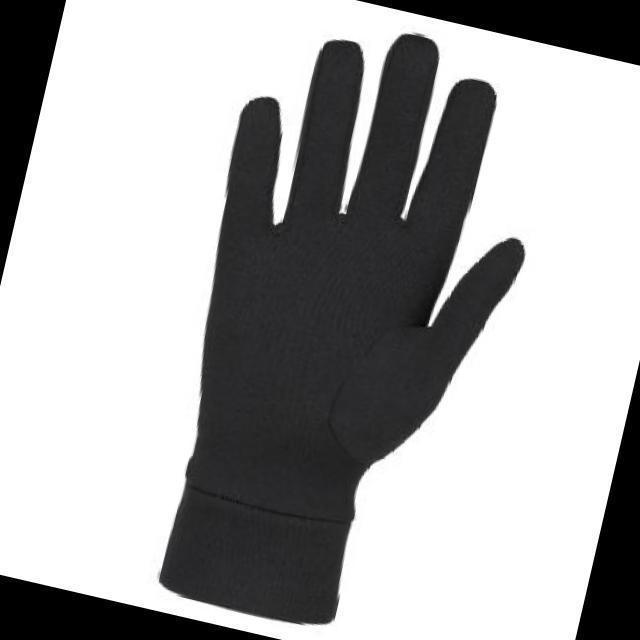glove: (150, 29, 530, 627)
